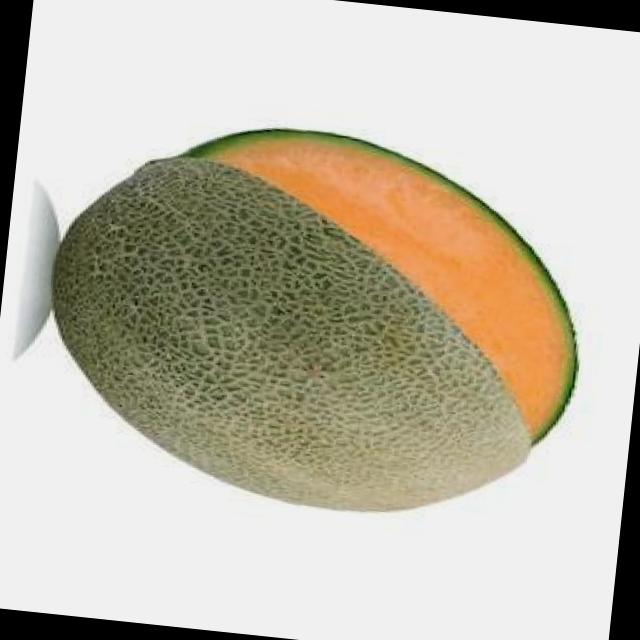cantaloupe: (33, 106, 599, 533)
